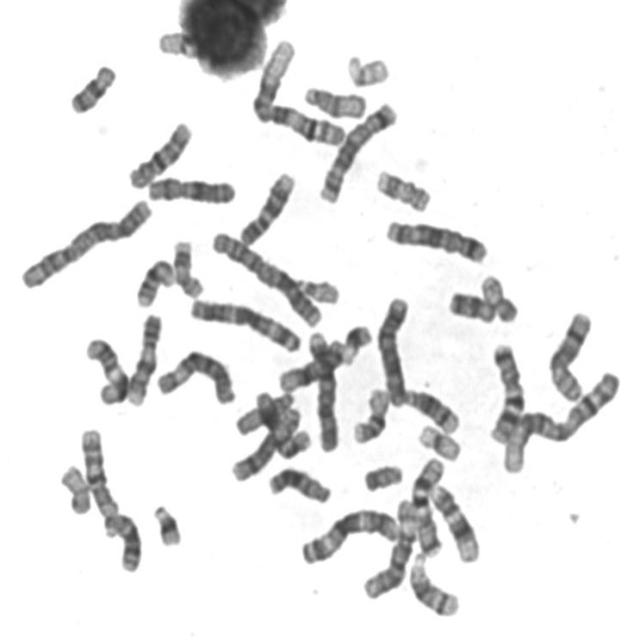A1: (499, 366, 622, 476), (246, 34, 349, 149)
A2: (16, 192, 155, 292), (208, 226, 324, 330)
A3: (184, 292, 304, 354), (297, 503, 403, 567)
B4: (304, 328, 342, 454), (373, 292, 413, 409)
B5: (315, 97, 400, 206), (381, 214, 490, 266)
C10: (124, 116, 195, 192), (76, 424, 120, 524)
C11: (250, 392, 320, 462), (82, 333, 132, 408)
C12: (428, 480, 482, 565), (276, 334, 348, 394)
C6: (358, 494, 421, 601), (152, 344, 238, 406)
C7: (484, 338, 527, 447), (407, 452, 447, 559)
C8: (227, 406, 304, 484), (544, 306, 596, 404)
C9: (235, 166, 297, 248), (123, 308, 165, 408)
D13: (264, 461, 334, 506), (100, 507, 144, 575)
D14: (405, 550, 462, 619), (399, 384, 462, 436)
D15: (231, 386, 298, 438), (300, 81, 368, 121)
E16: (348, 384, 392, 446), (132, 254, 176, 310)
E17: (372, 163, 434, 214), (169, 234, 206, 300)
E18: (65, 59, 118, 116), (443, 286, 498, 326)
F19: (414, 419, 464, 464), (158, 28, 203, 61)
F20: (476, 270, 521, 324), (56, 459, 93, 516)
G21: (148, 499, 184, 549), (339, 320, 373, 368)
G22: (342, 49, 392, 89), (293, 272, 341, 306)
X: (143, 172, 239, 206)
Y: (360, 460, 406, 494)
